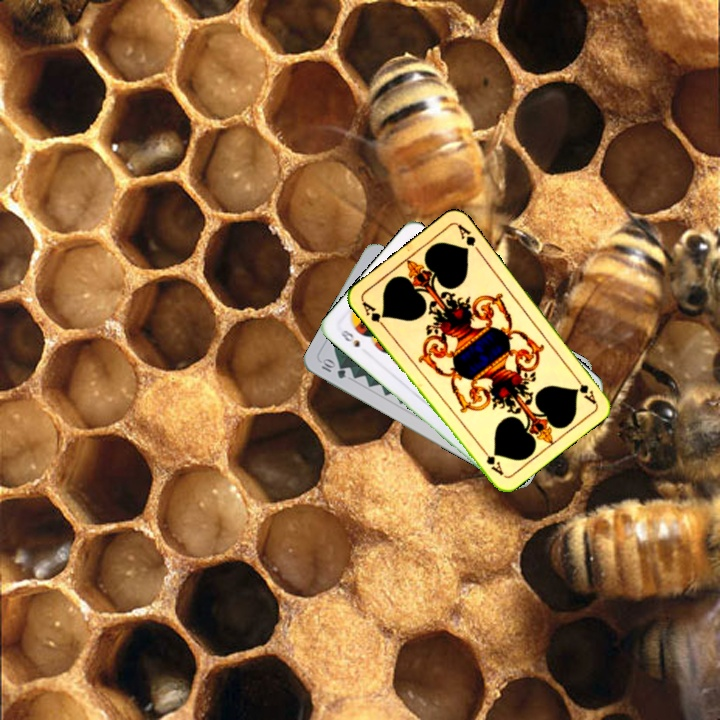G10: (317, 355, 348, 381)
GA: (358, 297, 389, 331), (569, 371, 599, 406)
S8: (336, 326, 362, 350)
